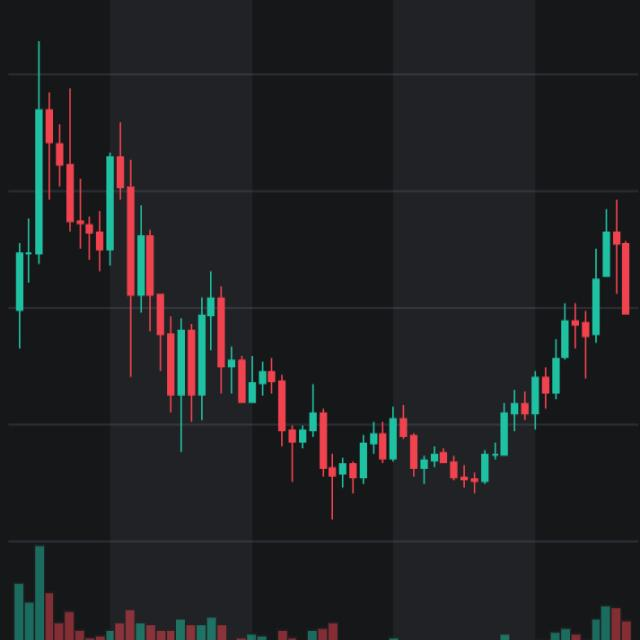Channel-up: (453, 167, 636, 540)
